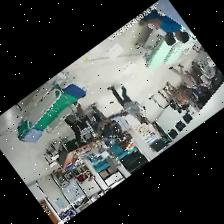person: (141, 9, 189, 42), (65, 103, 101, 147), (107, 85, 145, 122), (89, 102, 121, 135), (169, 64, 197, 88), (158, 86, 181, 112), (148, 22, 175, 44), (191, 60, 211, 88), (167, 82, 188, 105)
